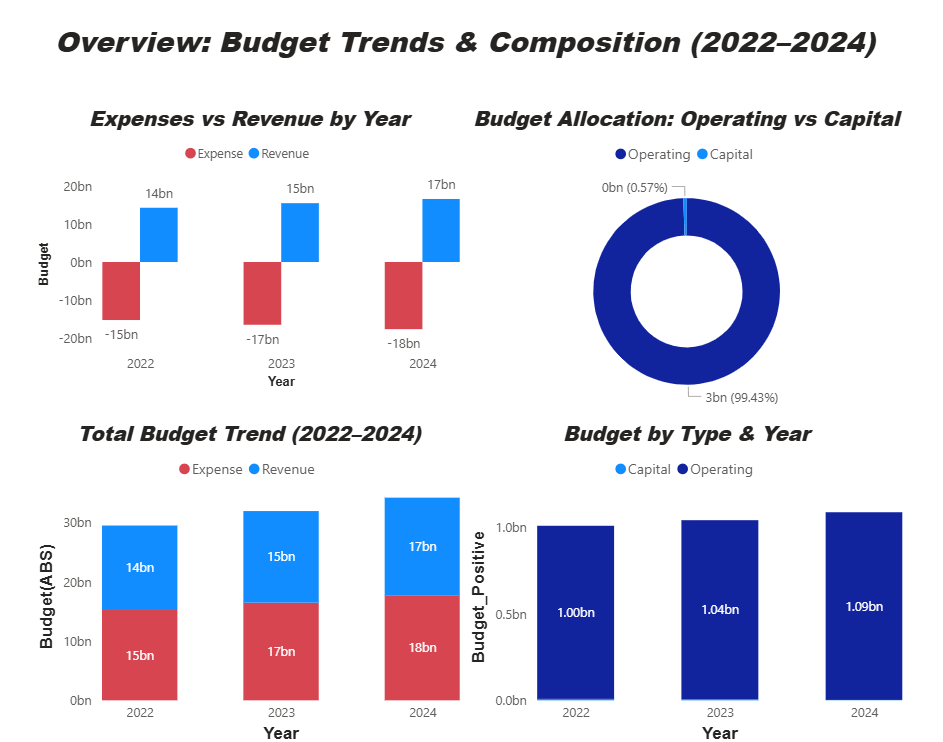

The page's visual inventory and layout, read from the dashboard file:
{"tool":"powerbi","page":{"name":"Overview","canvas":[1280,720],"ordinal":0},"visuals":[{"type":"clusteredColumnChart","title":"Expenses vs Revenue by Year","fields":{"Category":["Combined_Budget_Table.Year"],"Y":["Sum(Combined_Budget_Table.Budget)"],"Series":["Combined_Budget_Table.Budget_Direction"]},"box":[210.2,110.8,409,274.1],"z":0},{"type":"columnChart","title":"Total Budget Trend (2022–2024)","fields":{"Category":["Combined_Budget_Table.Year"],"Y":["Combined_Budget_Table.Budget_Positive"],"Series":["Combined_Budget_Table.Budget_Direction"]},"box":[210.2,409,409,311],"z":1},{"type":"donutChart","title":"Budget Allocation: Operating vs Capital","fields":{"Y":["Combined_Budget_Table.Budget_Positive"],"Category":["Combined_Budget_Table.Budget_Type"]},"box":[619.2,110.8,418.9,298.2],"z":2},{"type":"columnChart","title":"Budget by Type & Year","fields":{"Category":["Combined_Budget_Table.Year"],"Series":["Combined_Budget_Table.Budget_Type"],"Y":["Combined_Budget_Table.Budget_Positive"]},"box":[619.2,409,418.9,311],"z":3},{"type":"textbox","box":[180.4,27,877.6,72.4],"z":4}]}

Visuals, with their boxes on the page's 1280x720 design canvas (x1, y1, x2, y2). These are canvas units, not pixel positions in the 943x742 screenshot, which may show the page scaled, cropped or inside an application window:
"Expenses vs Revenue by Year" clusteredColumnChart: <box>210,111,619,385</box>
"Total Budget Trend (2022–2024)" columnChart: <box>210,409,619,720</box>
"Budget Allocation: Operating vs Capital" donutChart: <box>619,111,1038,409</box>
"Budget by Type & Year" columnChart: <box>619,409,1038,720</box>
textbox: <box>180,27,1058,99</box>
